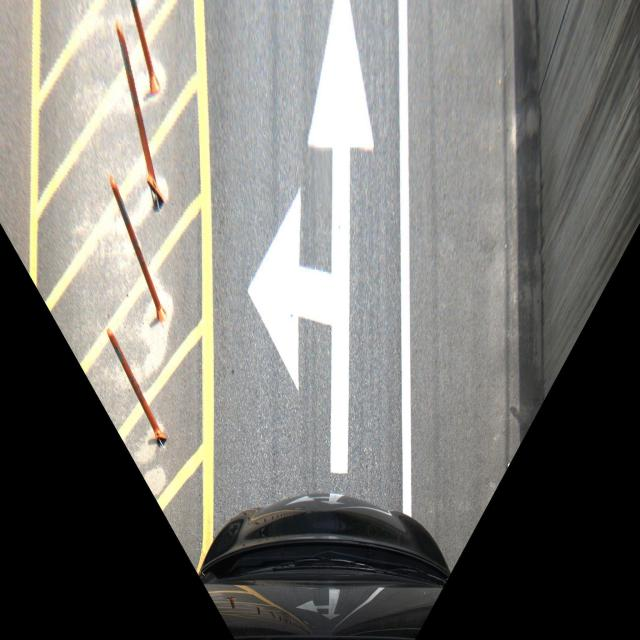forward_left: (188, 2, 439, 490)
